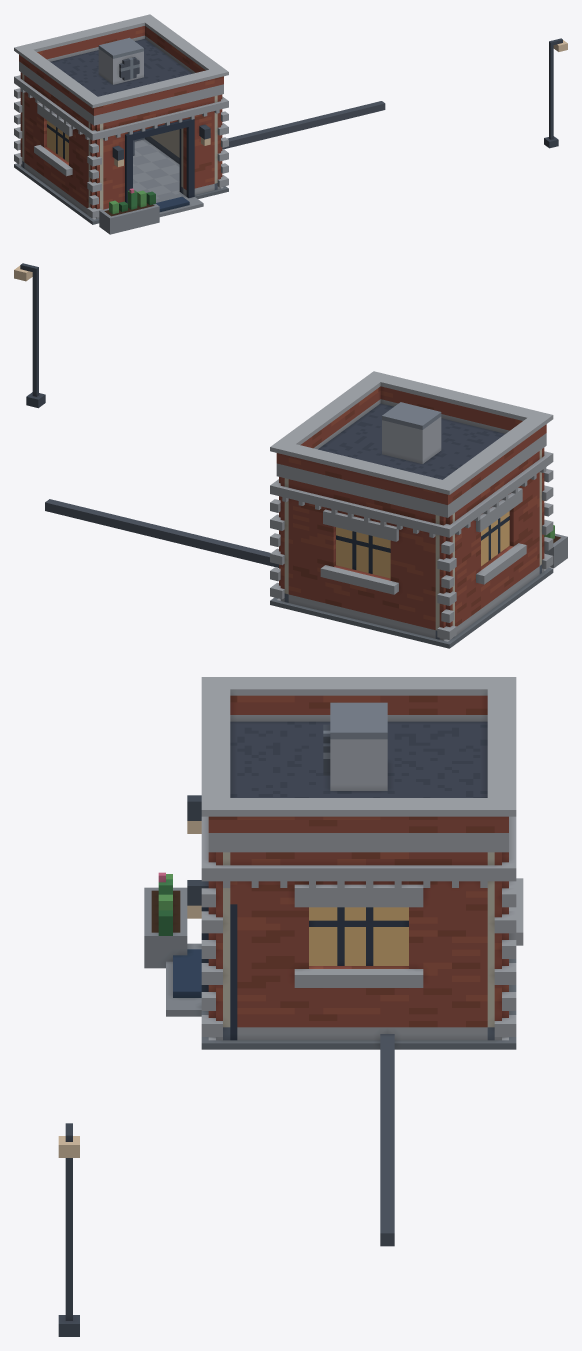
The model's file is antenna_e2_l1.glb.
The picture shows the model from 3 angles, top to bottom: view 1: azimuth 30°, elevation 25°; view 2: azimuth 150°, elevation 25°; view 3: azimuth 270°, elevation 25°; orthographic projection. The views are drawn at different scales.
Visible parts, largest first — view 1: CutRoof, Base, CutPZ, CutNX, CutNZ; view 2: CutRoof, Base, CutNZ, CutNX, CutPZ; view 3: CutRoof, CutPX, Base, CutPZ, CutNZ.
Boxes of the visible parts, x1,y1,x2,y2 form: CutRoof: (14,14,228,125); Base: (14,38,567,234); CutPZ: (87,94,228,192); CutNX: (17,75,91,185); CutNZ: (14,72,24,138); CutRoof: (270,371,553,517); Base: (14,263,567,648); CutNZ: (270,477,456,605); CutNX: (450,451,548,596); CutPZ: (539,448,553,535); CutRoof: (201,677,516,852); CutPX: (216,852,501,987); Base: (58,872,516,1336); CutPZ: (187,795,237,984); CutNZ: (487,816,523,984).
Size of the model in its own units: 14.3 by 4.1 by 6.5.
